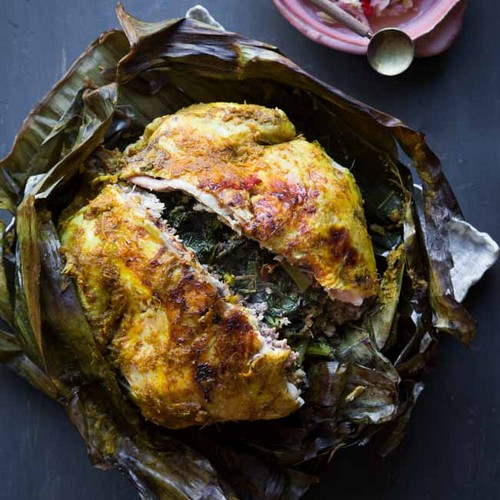ayam betutu: (69, 130, 369, 409)
